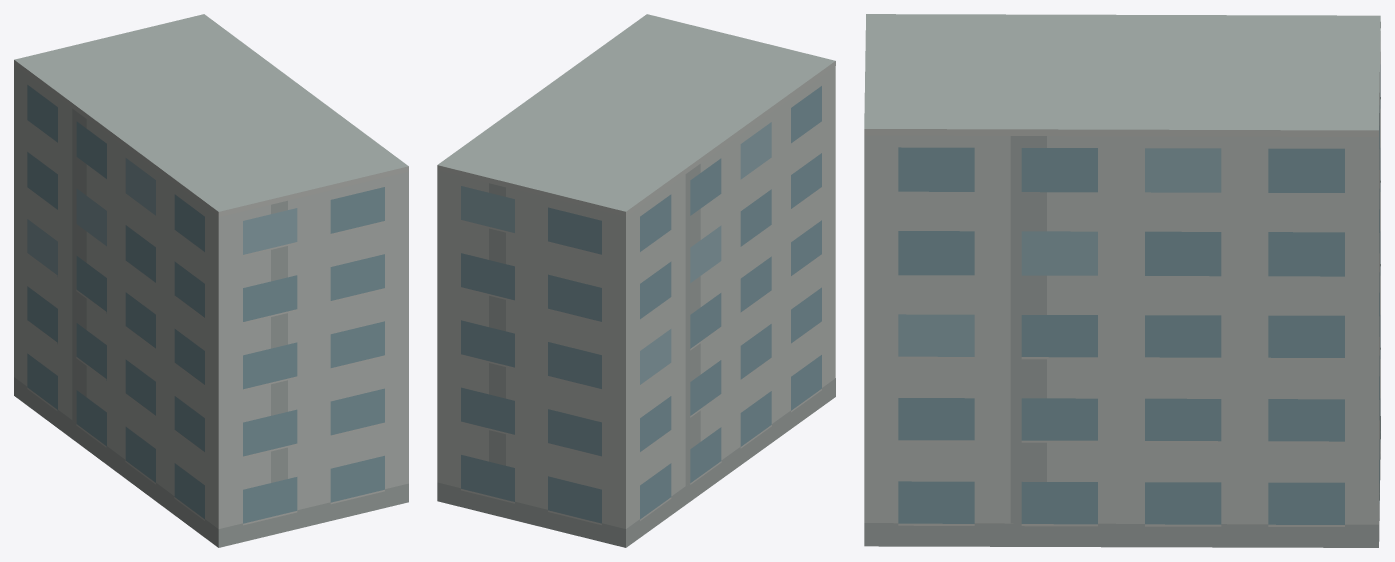
The model's file is survey-upis-32634211.glb.
3 views of the same model, side by side, from view 1: azimuth 30°, elevation 25°; view 2: azimuth 150°, elevation 25°; view 3: azimuth 270°, elevation 25° (orthographic). The views are drawn at different scales.
Visible parts, largest first — view 1: survey-upis-32634211.tmp; view 2: survey-upis-32634211.tmp; view 3: survey-upis-32634211.tmp.
Part boxes in pixels (bbox=[...]): survey-upis-32634211.tmp: bbox=[14, 14, 408, 547]; survey-upis-32634211.tmp: bbox=[437, 14, 835, 547]; survey-upis-32634211.tmp: bbox=[864, 14, 1380, 547].
Bounding box in the file's own units: 9.13 × 15.25 × 17.11.
